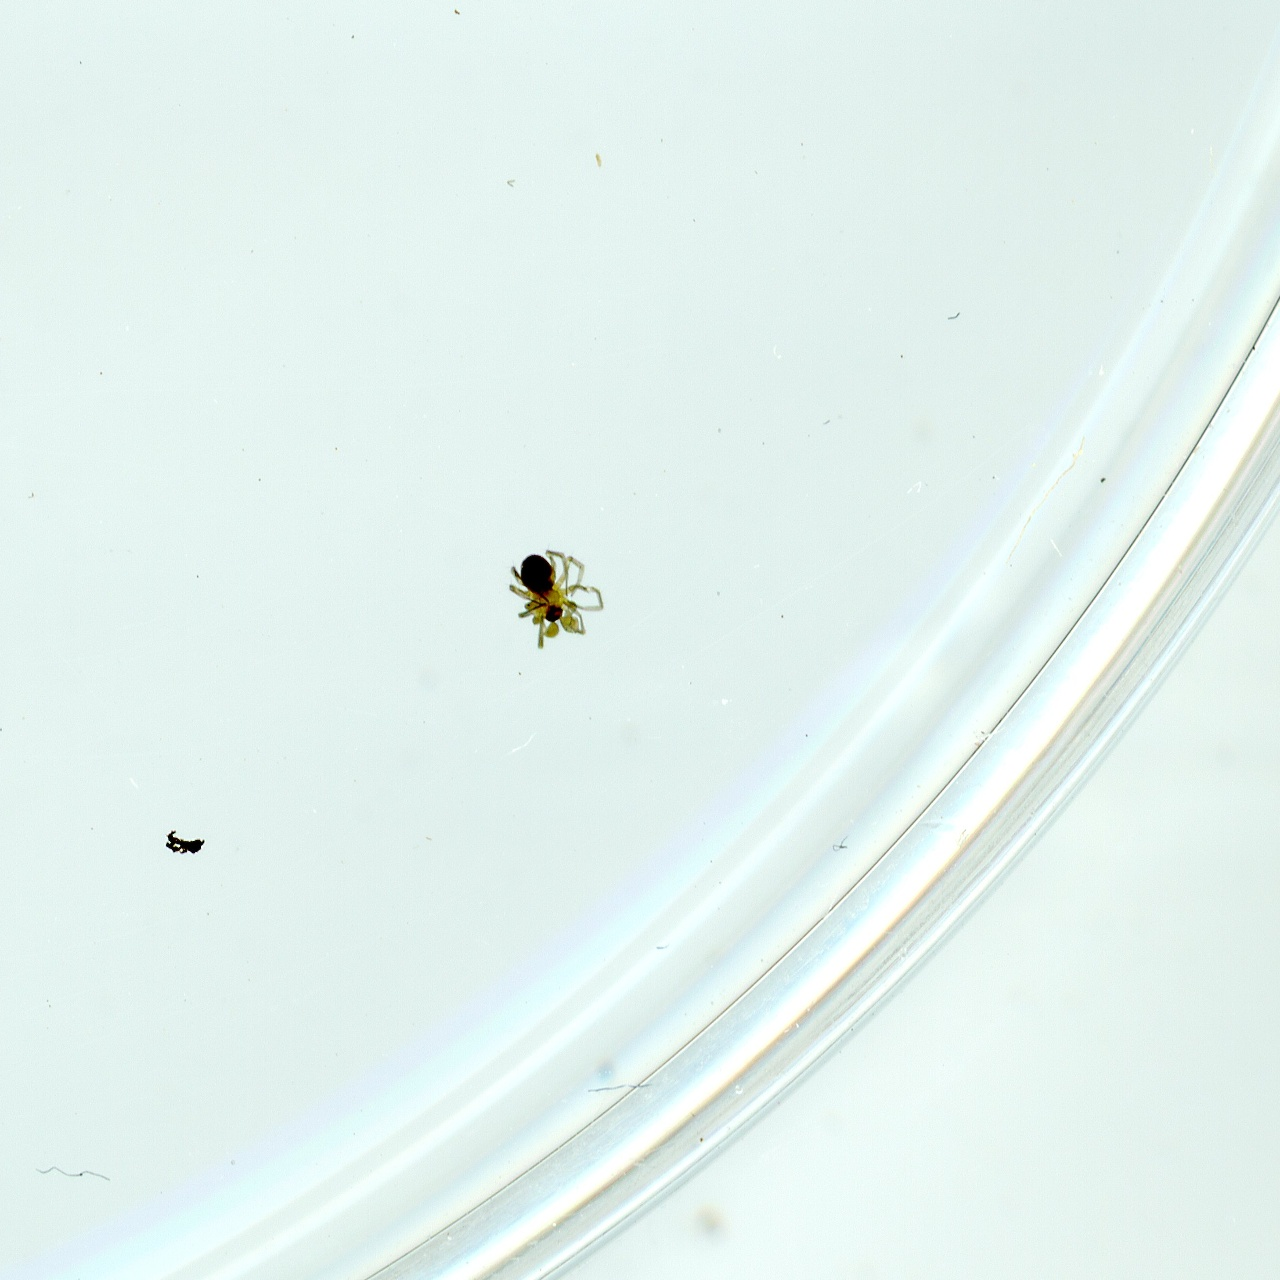arthropod: (466, 533, 614, 652)
